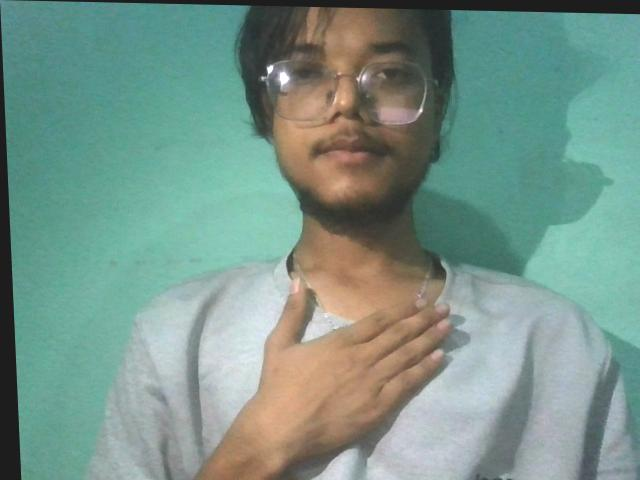Please: (178, 235, 507, 471)
